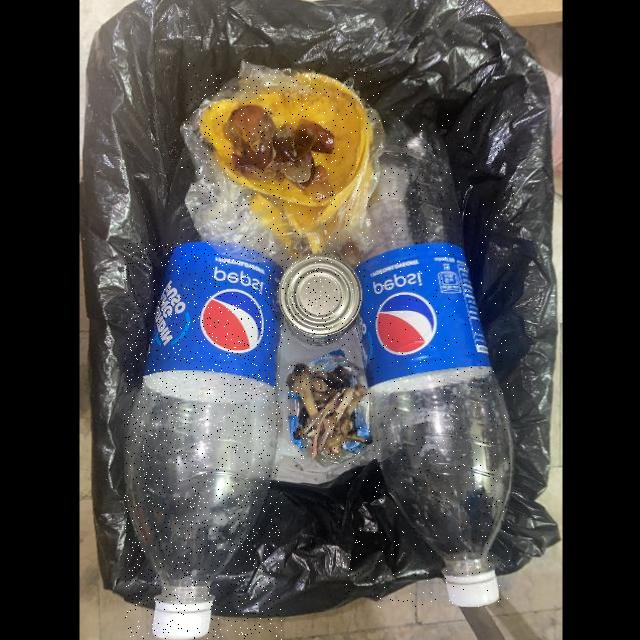biowaste: (200, 72, 371, 206), (224, 104, 334, 200), (286, 364, 367, 461)
metal: (278, 254, 362, 346)
plastic: (343, 109, 514, 608), (125, 240, 282, 640), (181, 60, 384, 267)
